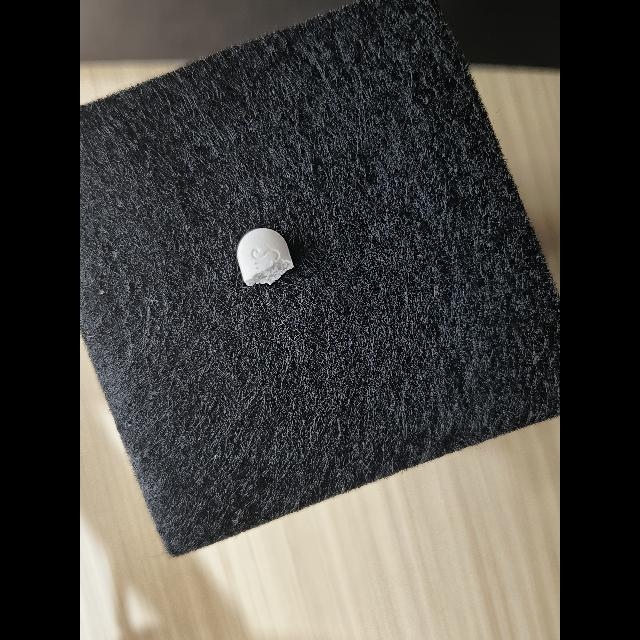Chipped Pill: (237, 228, 294, 286)
